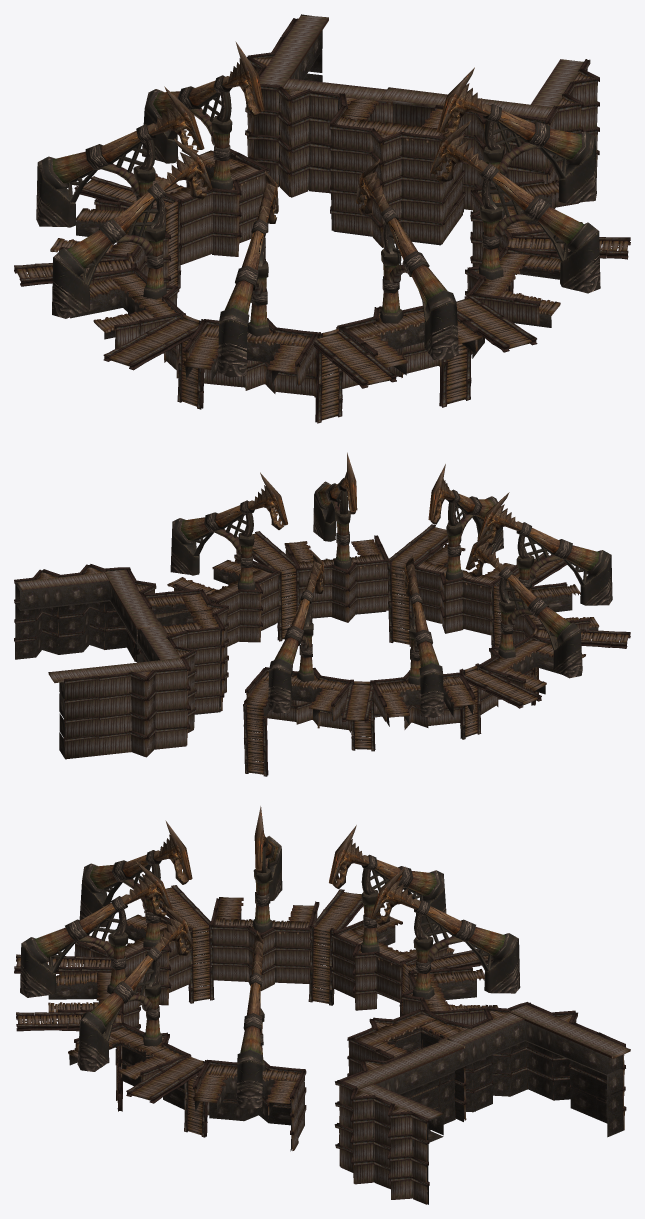
Rendered from Practiceplace_1.fbx.
The picture shows the model from 3 angles, top to bottom: view 1: azimuth 30°, elevation 25°; view 2: azimuth 150°, elevation 25°; view 3: azimuth 270°, elevation 25°; orthographic projection. The views are drawn at different scales.
Parts seen in each view (by area): view 1: vrykul_fightingpit; view 2: vrykul_fightingpit; view 3: vrykul_fightingpit.
Boxes of the visible parts, bbox=[...] form: vrykul_fightingpit: bbox=[14, 14, 630, 423]; vrykul_fightingpit: bbox=[14, 452, 630, 776]; vrykul_fightingpit: bbox=[14, 806, 630, 1204].
Size of the model in its own units: 30699 by 11736 by 30218.
